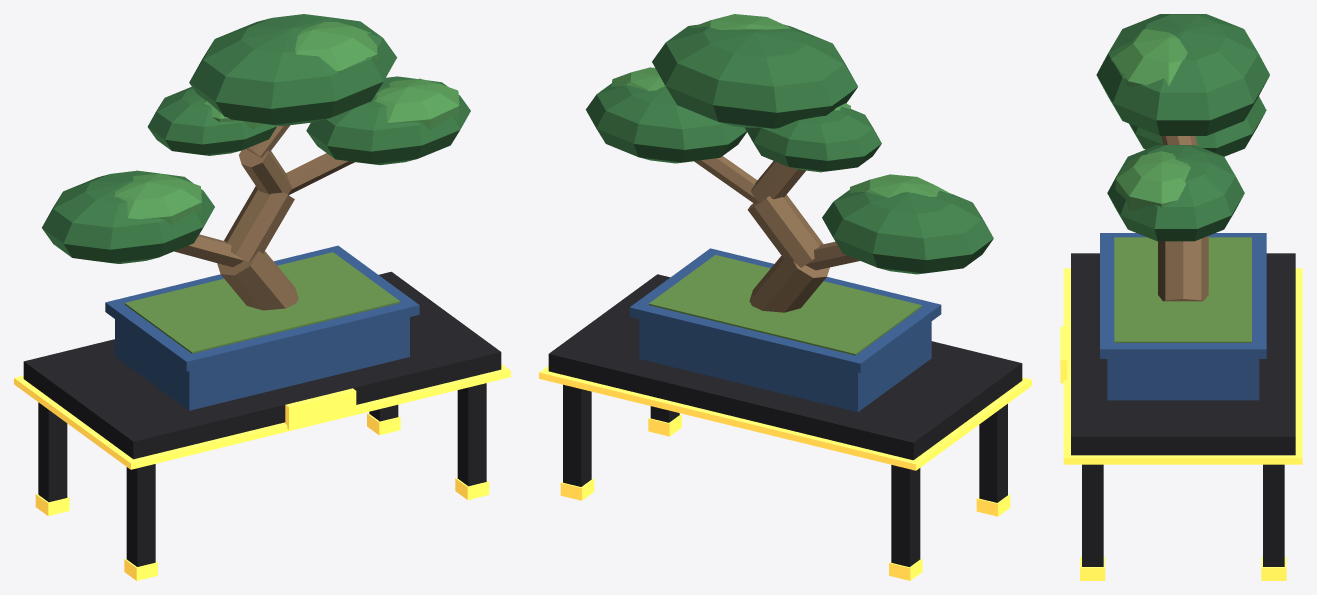
The model's file is lux_bonsai.glb.
3 renders of one model, left to right at view 1: azimuth 30°, elevation 25°; view 2: azimuth 150°, elevation 25°; view 3: azimuth 270°, elevation 25°, orthographic. The views are drawn at different scales.
Parts seen in each view (by area): view 1: lux_bonsai; view 2: lux_bonsai; view 3: lux_bonsai.
Part boxes in pixels (bbox=[...]): lux_bonsai: bbox=[14, 14, 510, 580]; lux_bonsai: bbox=[539, 14, 1031, 580]; lux_bonsai: bbox=[1060, 14, 1302, 580].
Size of the model in its own units: 1.3 by 1.45 by 0.67.
